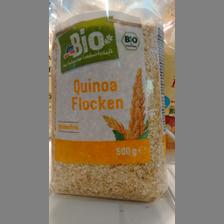Cerealien: (50, 11, 170, 200)
